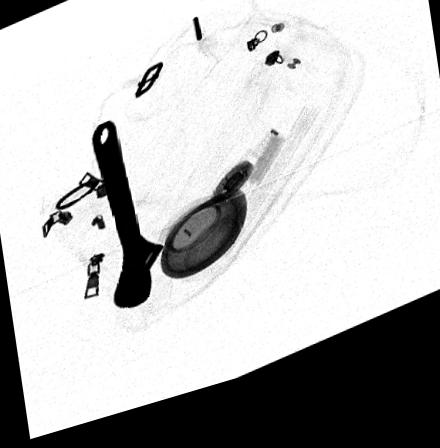Wrench: (89, 126, 166, 317)
